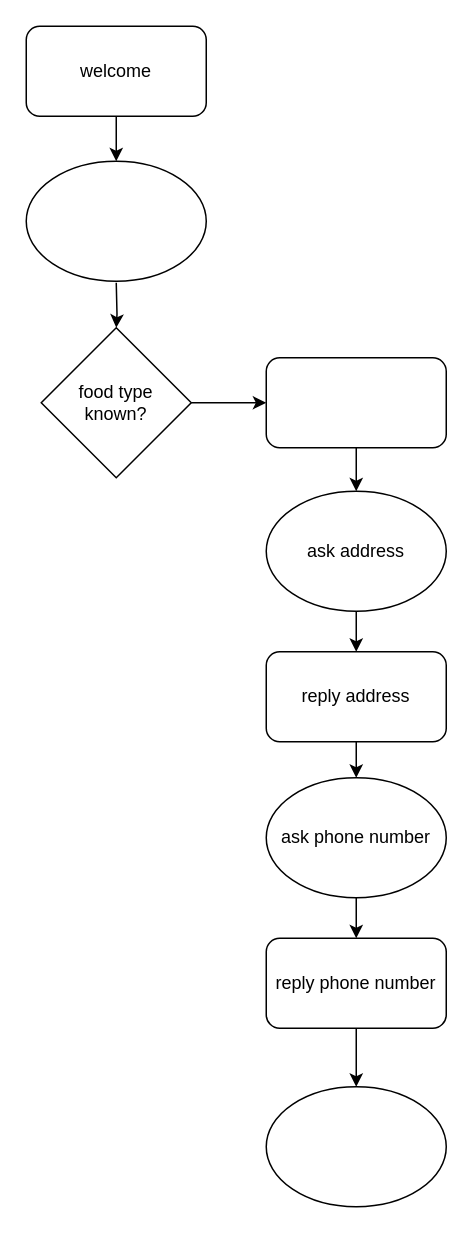
Image size: 473x1233. Some labels were removed from this diagram. The centre of each missing label's shape, as x and y in pixels:
"express preferences" belongs at (115,220).
"suggest restaurant" belongs at (355,402).
"thank you & bye" belongs at (355,1146).
